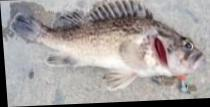fish: (10, 0, 204, 91)
